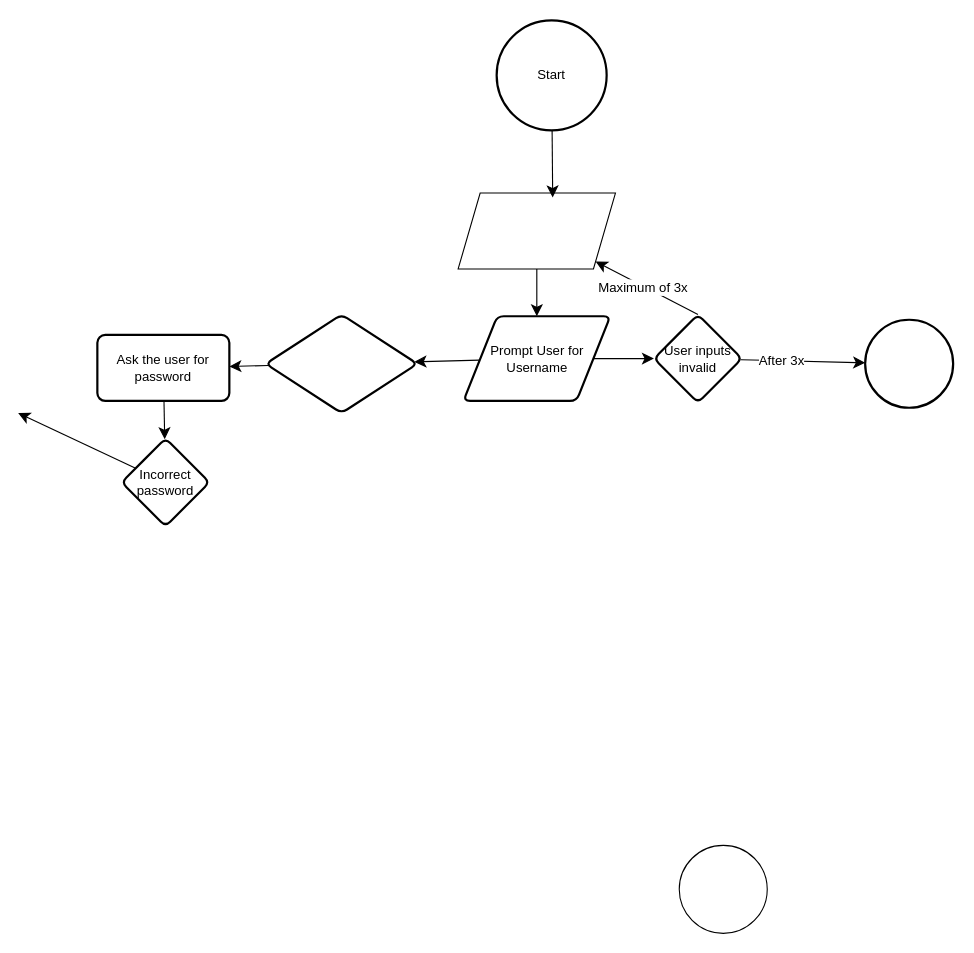
This 974x953 diagram has some shape labels left out. The shapes that lost their labels are listed below. From the top down, each one's box as (x1, y1, x2, y2) in pixels, then its label:
(457, 192, 615, 269): Login:Username and Password
(264, 313, 418, 414): User inputs valid username
(864, 318, 954, 408): Exit the Program
